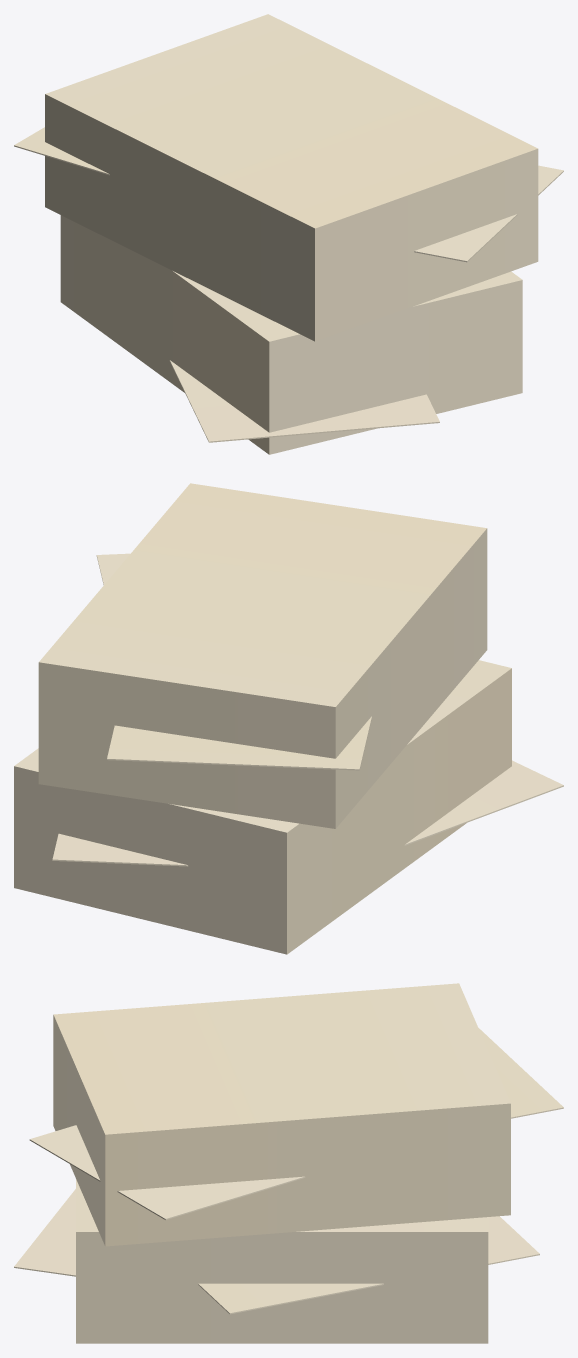
Rendered from SM_Papel.fbx.
3 renders of one model, top to bottom at view 1: azimuth 30°, elevation 25°; view 2: azimuth 150°, elevation 25°; view 3: azimuth 270°, elevation 25°, orthographic. The views are drawn at different scales.
Parts seen in each view (by area): view 1: Plane.002; view 2: Plane.002; view 3: Plane.002.
Boxes of the visible parts, x1,y1,x2,y2 form: Plane.002: (14,14,563,454); Plane.002: (14,483,563,954); Plane.002: (14,983,563,1343).
Size of the model in its own units: 40.49 by 22.05 by 49.17.
